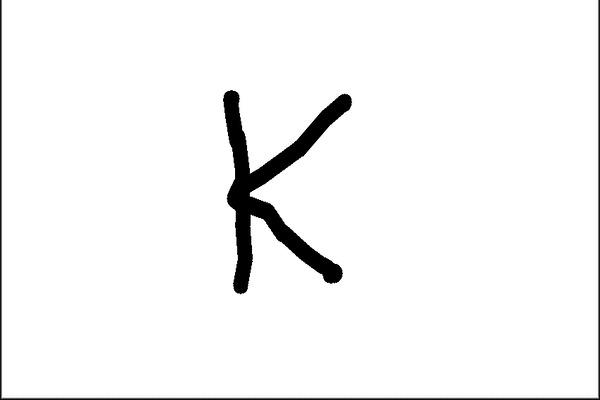K: (211, 79, 359, 296)
